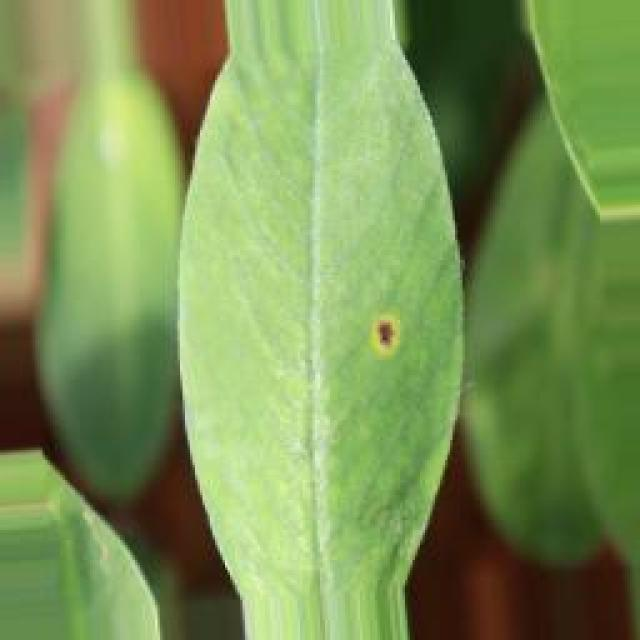Sigatoka: (358, 304, 431, 386)
